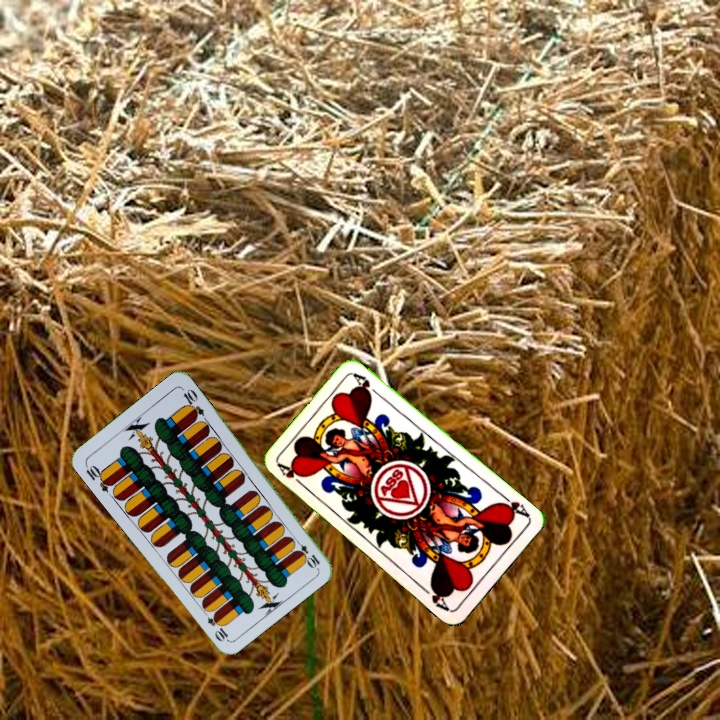E10: (81, 460, 115, 495), (290, 535, 322, 570)
HA: (274, 459, 309, 491), (495, 490, 532, 520)
